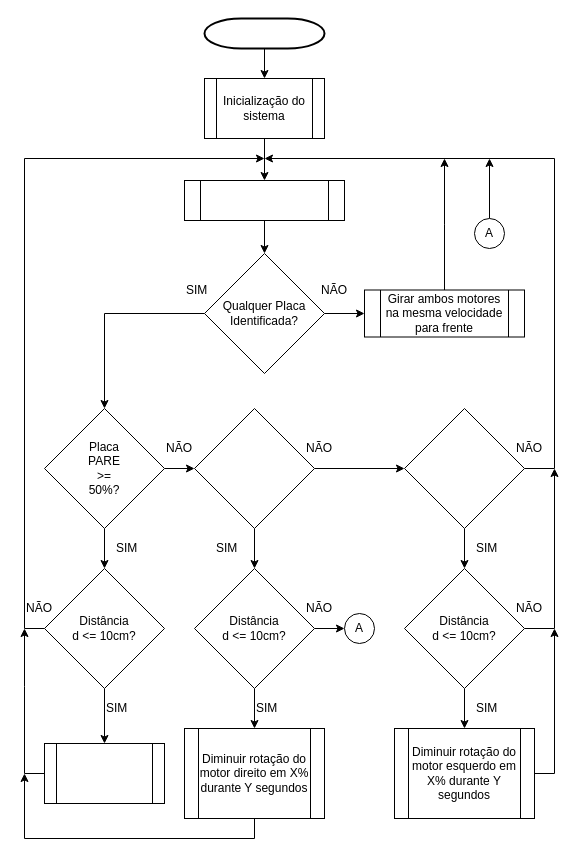
This 580x864 diagram has some shape labels left out. Each missing label, with the centre of its shape:
"Identificação da placa" belongs at (264,200).
"Início" belongs at (264,33).
"Parar os 2 motores simultaneamente" belongs at (104,773).
"Placa VIR_DIR >= 70%?" belongs at (254,468).
"Placa VIR_ESQ >= 70%?" belongs at (464,468).
